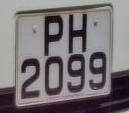0: (41, 50, 67, 101)
2: (18, 53, 45, 103)
9: (63, 50, 91, 94), (86, 48, 108, 93)
H: (64, 12, 92, 54)
P: (39, 13, 69, 58)
